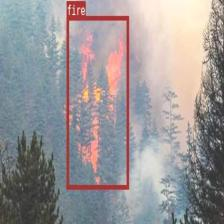fire: (66, 15, 129, 188)
